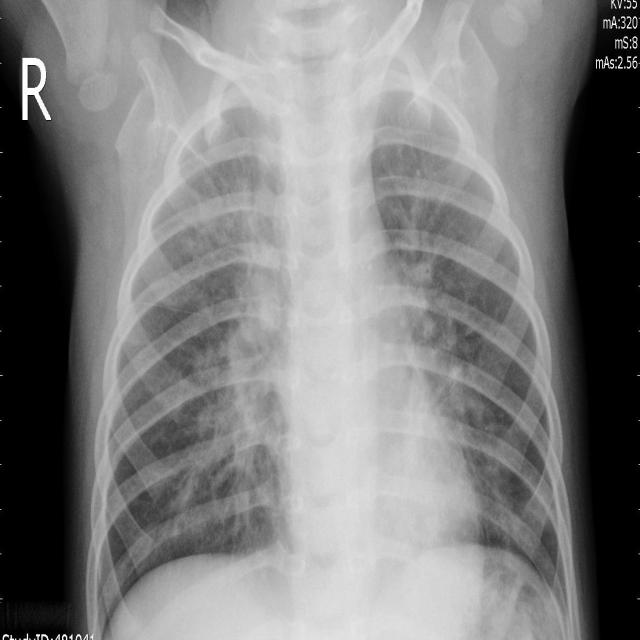low-pneumonia: (209, 183, 290, 473), (396, 208, 491, 444), (183, 80, 265, 226)
